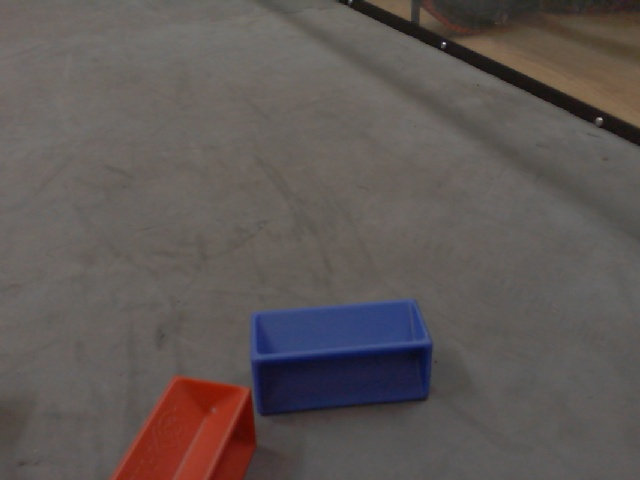BlueSample: (245, 298, 439, 419)
RedSample: (101, 374, 261, 478)
